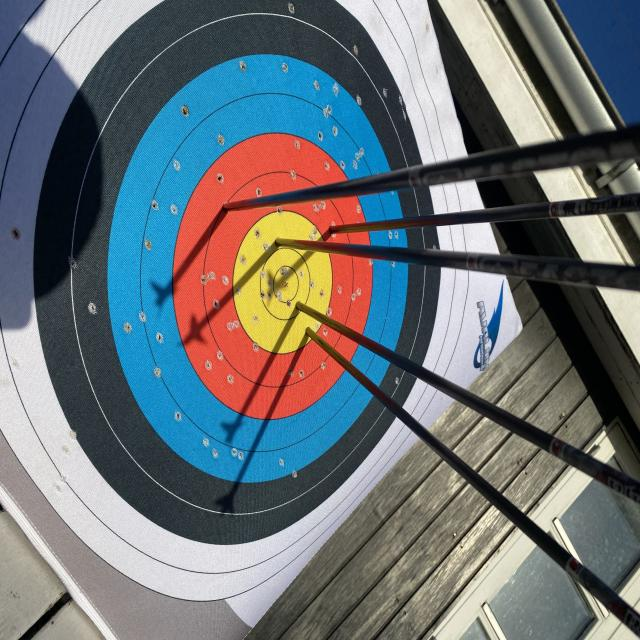Arrow_Red: (204, 177, 238, 224), (315, 211, 348, 239)
Arrow_Yellow: (261, 224, 299, 262), (284, 281, 314, 323), (289, 323, 327, 347)
